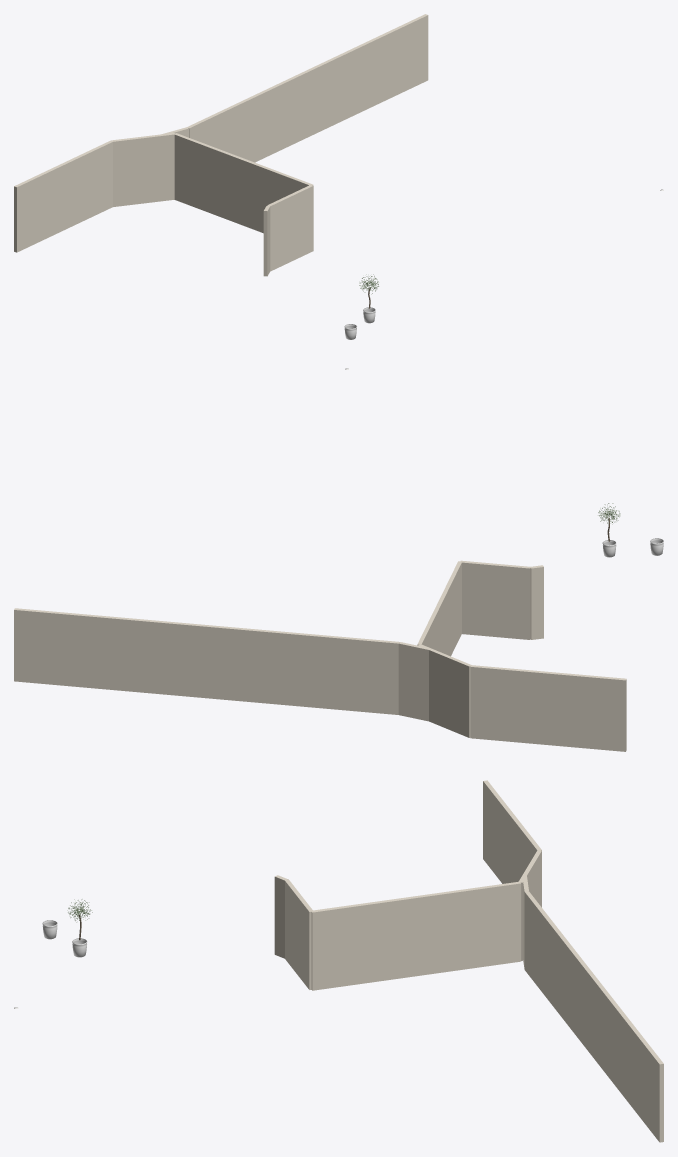
3 views of the same model, one above another, from view 1: azimuth 30°, elevation 25°; view 2: azimuth 150°, elevation 25°; view 3: azimuth 270°, elevation 25° (orthographic). The views are drawn at different scales.
Visible parts, largest first — view 1: n00011, n00014, n00012, n00013, n00015, n00016; view 2: n00011, n00012, n00015, n00013, n00010, n00014, n00016; view 3: n00014, n00011, n00012, n00015, n00013, n00016.
Boxes of the visible parts, x1,y1,x2,y2 form: n00011: [187, 14, 428, 162]; n00014: [174, 133, 313, 233]; n00012: [14, 140, 112, 252]; n00013: [111, 133, 174, 206]; n00015: [267, 185, 313, 271]; n00016: [263, 206, 270, 276]; n00011: [14, 608, 399, 714]; n00012: [470, 665, 626, 751]; n00015: [460, 560, 530, 639]; n00013: [418, 644, 471, 737]; n00010: [398, 642, 430, 721]; n00014: [417, 561, 461, 656]; n00016: [530, 565, 543, 639]; n00014: [311, 881, 521, 990]; n00011: [524, 891, 663, 1142]; n00012: [483, 780, 541, 883]; n00015: [285, 880, 313, 989]; n00013: [518, 850, 541, 960]; n00016: [274, 875, 288, 958].
Size of the model in its own units: 29.2 by 5.5 by 28.24.
